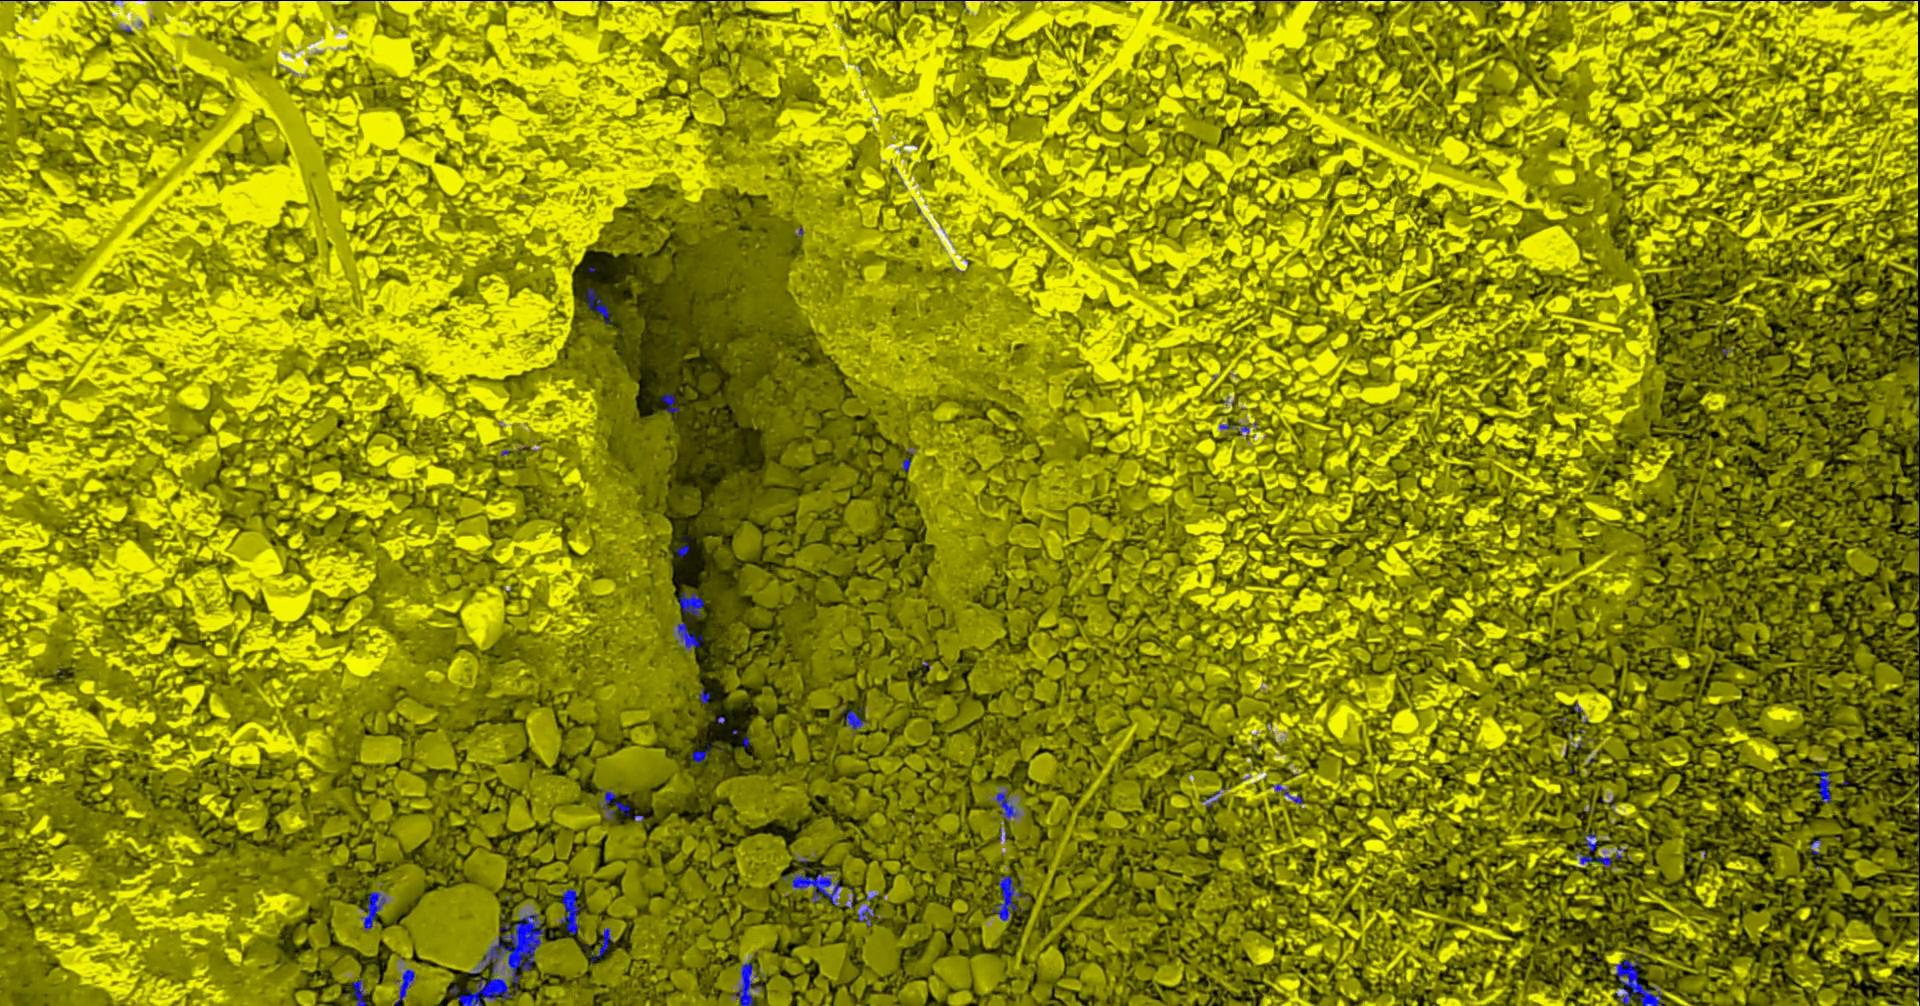ant: (790, 856, 841, 904), (1615, 954, 1663, 1005), (990, 875, 1026, 920), (1575, 831, 1613, 866), (733, 962, 762, 1005), (559, 888, 582, 934), (598, 788, 629, 821), (583, 287, 610, 323), (361, 890, 385, 929), (394, 968, 414, 1005), (678, 591, 703, 620), (590, 927, 612, 962), (676, 621, 702, 648), (996, 791, 1017, 823), (1812, 768, 1831, 803), (841, 708, 867, 730), (1272, 782, 1302, 803), (659, 392, 679, 412), (350, 979, 366, 1005), (857, 904, 872, 926), (691, 744, 709, 762), (676, 537, 691, 556), (698, 688, 710, 702)
